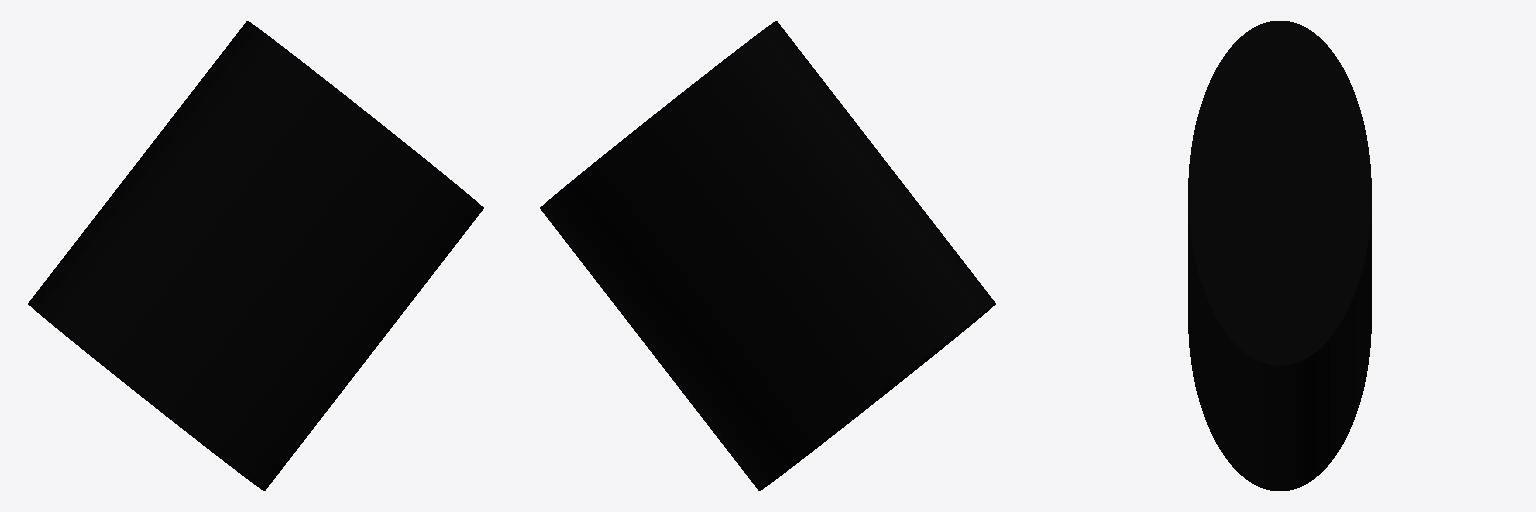
robot.urdf — luxtac_ellipse_deg45:
<?xml version="1.0"?>
<!-- ellipse, long axis at 45 deg in the pad plane.
     Generated by scripts/make_luxtac_objs.py. Metres, centred on x,y, cross-section
     centre at z = 0.0452 (the pad centre once staged). Long axis at 45 deg in
     the x-z plane: 0 = along the finger, 90 = across it. Length 40mm,
     mass 1.500000 kg.

     The link is named 'cube' because TacSL resolves the indenter link by name. -->
<robot name="luxtac_ellipse_deg45">
    <link name="cube">
        <visual>
            <geometry><mesh filename="../mesh/luxtac_ellipse_deg45.obj"/></geometry>
            <material name="black"><color rgba="0.05 0.05 0.05 1"/></material>
        </visual>
        <collision>
            <geometry><mesh filename="../mesh/luxtac_ellipse_deg45.obj"/></geometry>
            <sdf resolution="256"/>  <!-- 0.221mm voxels -->
        </collision>
        <inertial>
            <origin rpy="0 0 0" xyz="0 0 0.0452"/>
            <mass value="1.500000"/>
            <inertia ixx="2.124197e-04" ixy="0" ixz="0" iyy="3.498929e-04" iyz="0" izz="2.124197e-04"/>
        </inertial>
    </link>
</robot>

--- Facts derived from the render (not from the file) ---
3 views of the same robot in one strip: view 1: azimuth 30°, elevation 25°; view 2: azimuth 150°, elevation 25°; view 3: azimuth 270°, elevation 25° (orthographic).
Robot: luxtac_ellipse_deg45 — 1 links, 0 joints (none); root link cube; default pose: all joints at 0.
Visible links, largest first — view 1: cube; view 2: cube; view 3: cube.
Boxes of the visible links, x1=… form: cube: x1=28, y1=21, x2=483, y2=490; cube: x1=540, y1=21, x2=995, y2=490; cube: x1=1188, y1=21, x2=1371, y2=490.
Bounding box of the posed robot: 0.0566 × 0.02 × 0.0566 m (x, y, z).
1 mesh visuals loaded from 1 distinct referenced files (1 OBJ).
